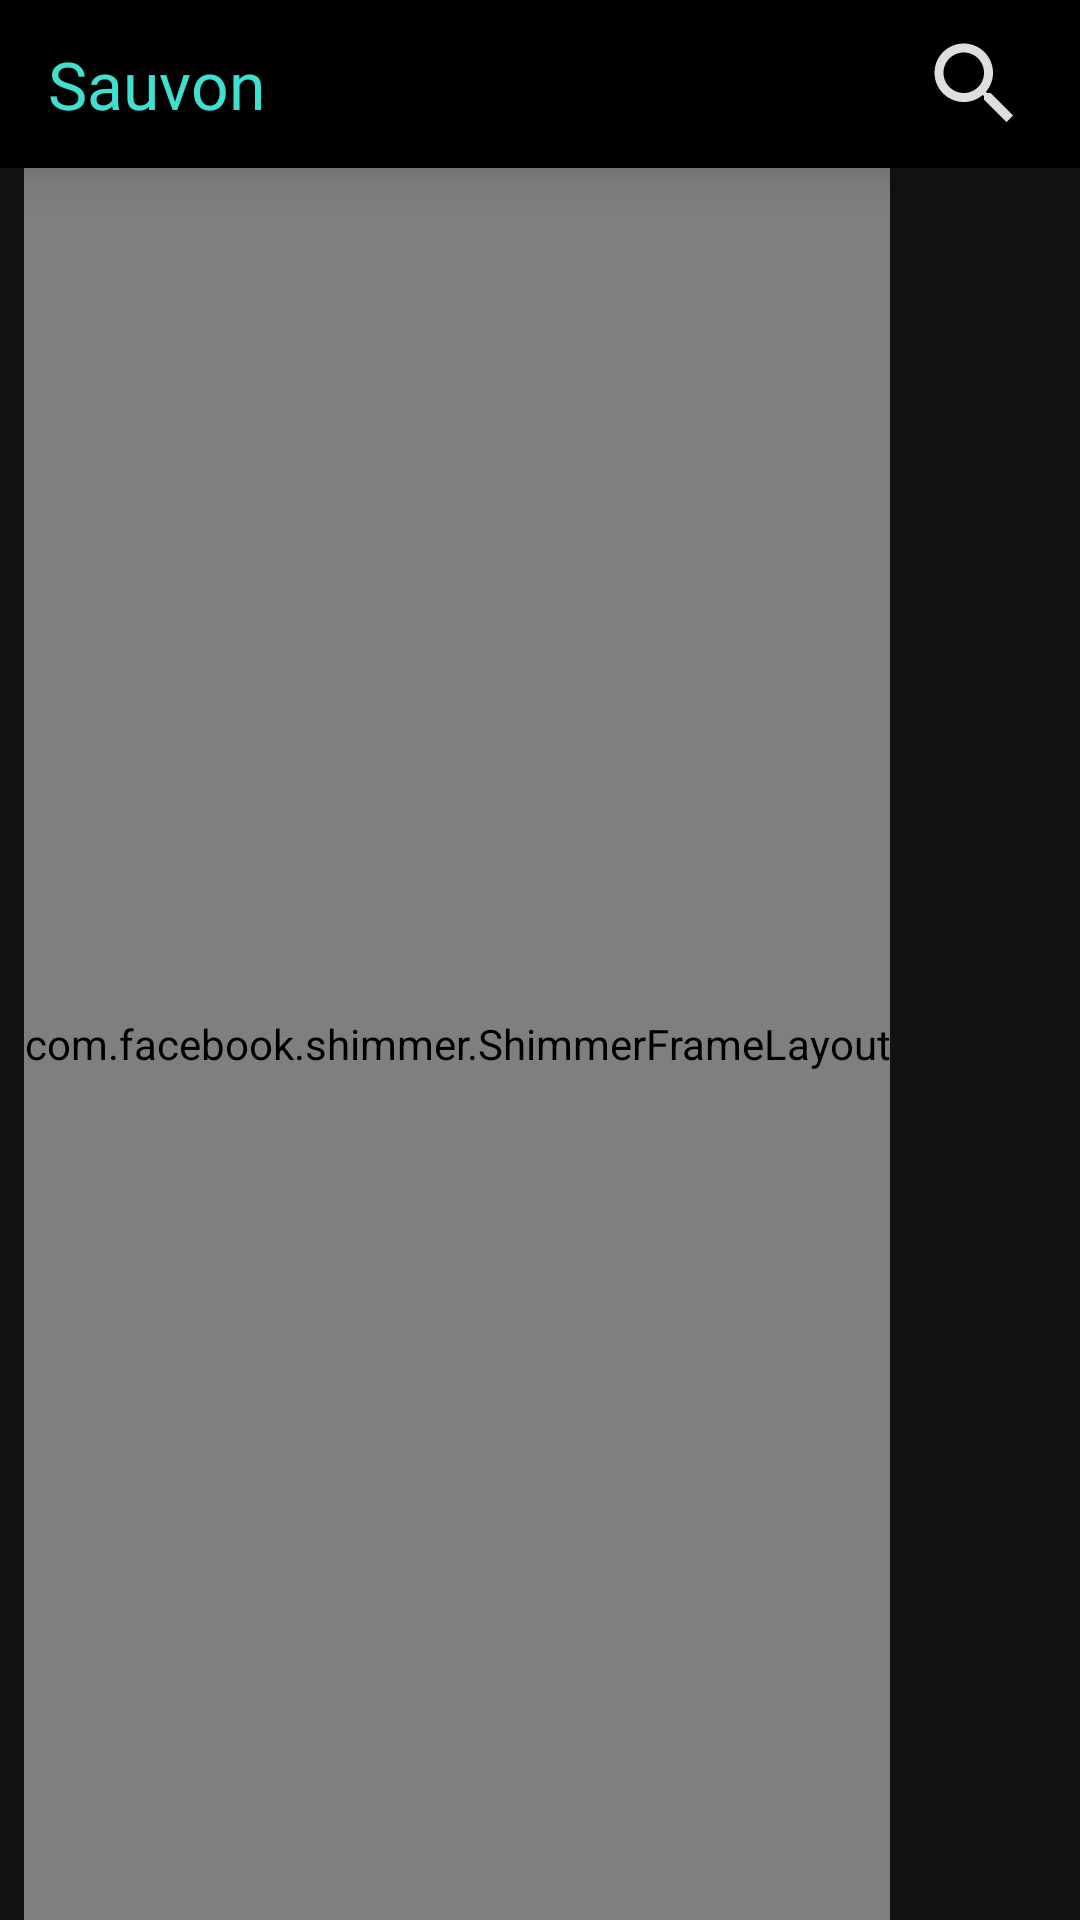

Icons on this 1080 × 1920 Android screen, each with its box as (x1, y1, x2, y2):
search: (934, 43, 1013, 122)
